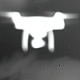plane: (1, 10, 80, 53)
